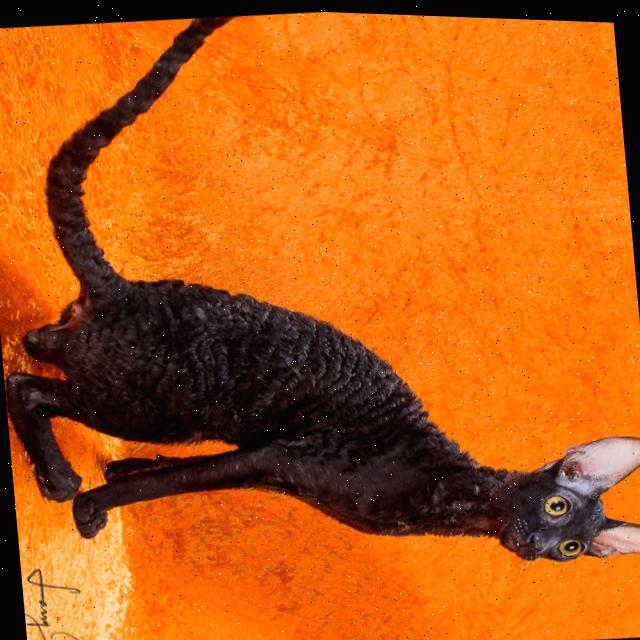Cornish Rex: (0, 0, 640, 610)
